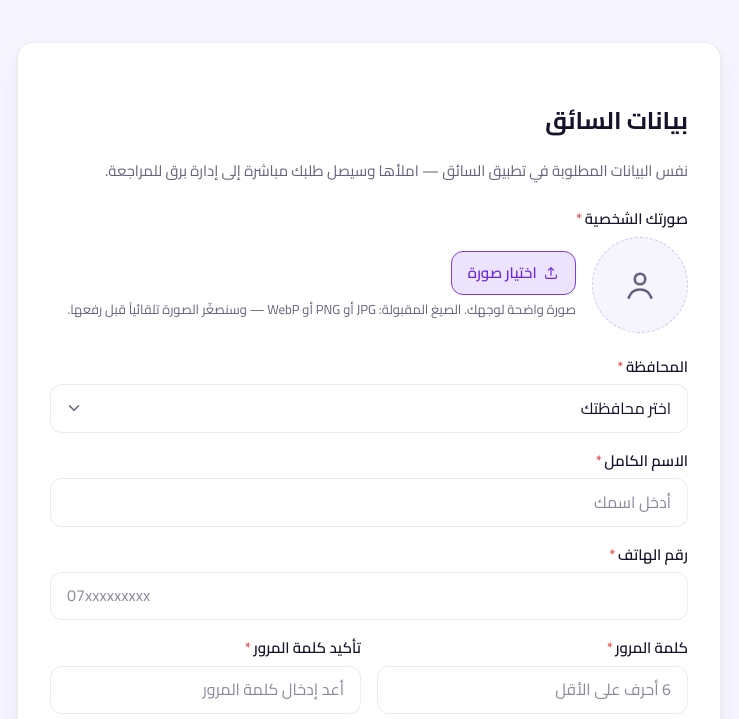
Test case: the driver apply page › refuses to submit without agreeing to the terms
(page scrolled)
Select "النجف" in the dropdown labelled "المحافظة*" at point(369, 408), box [50, 384, 688, 433]
Type "علي محمد" into the field labelled "الاسم الكامل*".
click(369, 502); type("علي محمد")  # box [50, 478, 688, 526]
Type "07712345678" into the field labelled "رقم الهاتف*".
click(369, 596); type("07712345678")  # box [50, 572, 688, 620]
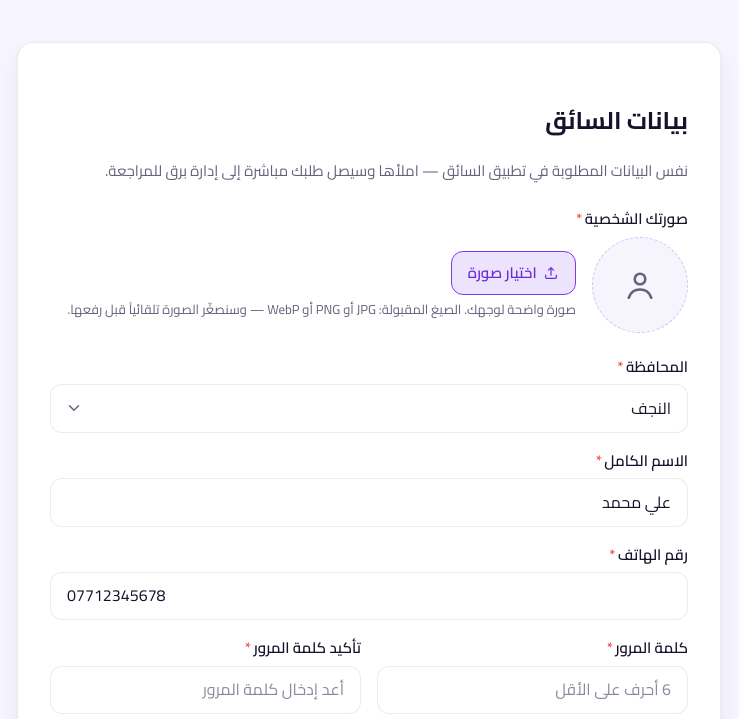
Type "secret123" into the password field labelled "كلمة المرور*".
click(532, 690); type("secret123")  # box [377, 666, 688, 714]
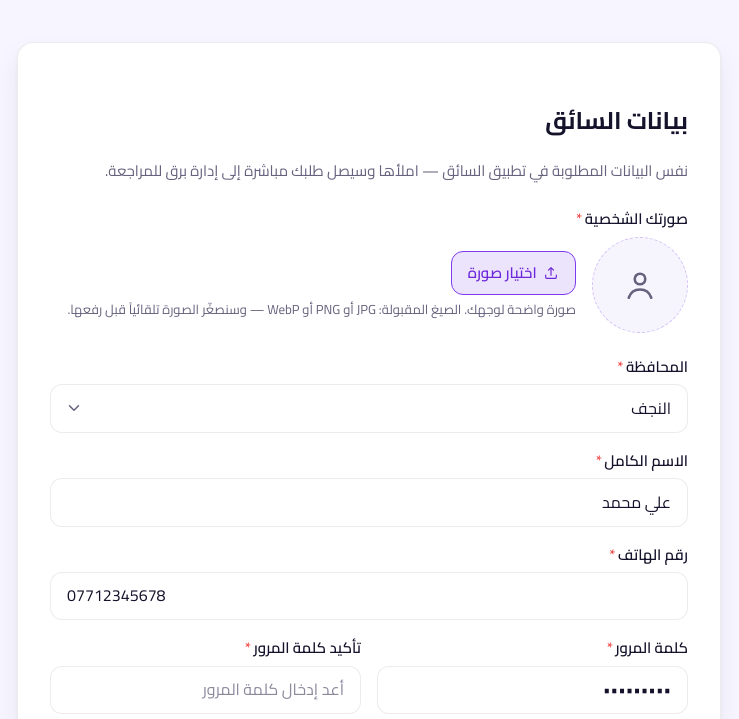
Type "secret123" into the password field labelled "تأكيد كلمة المرور*".
click(206, 690); type("secret123")  # box [50, 666, 361, 714]
(page scrolled)
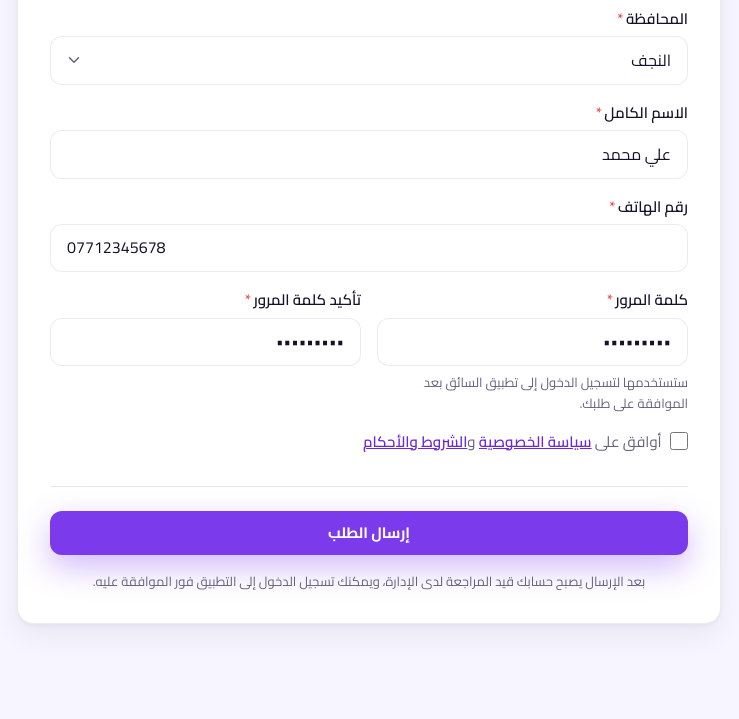
Click the checkbox.
click(679, 441)  # box [670, 432, 688, 450]
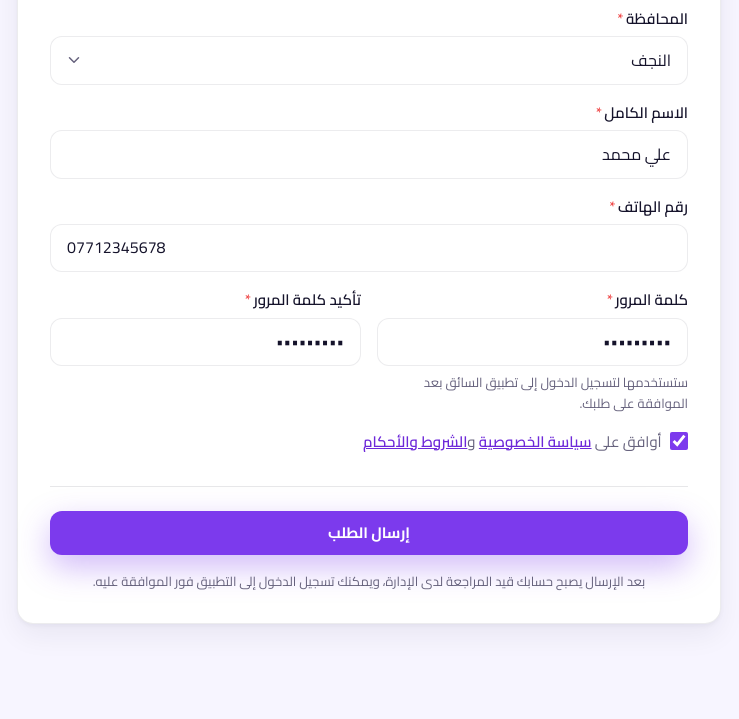
Click the checkbox.
click(679, 441)  # box [670, 432, 688, 450]
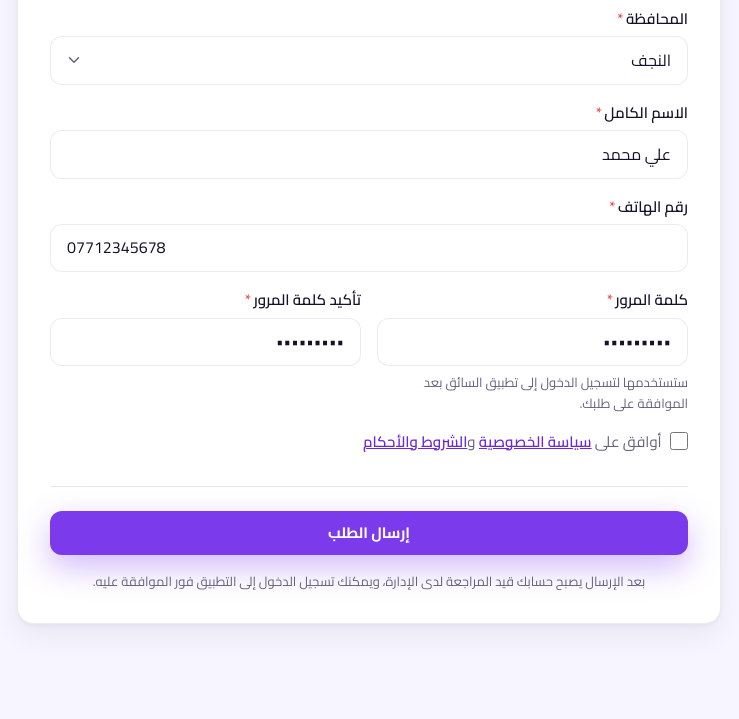
Click the button "إرسال الطلب".
click(369, 533)  # box [50, 511, 688, 555]
(page scrolled)
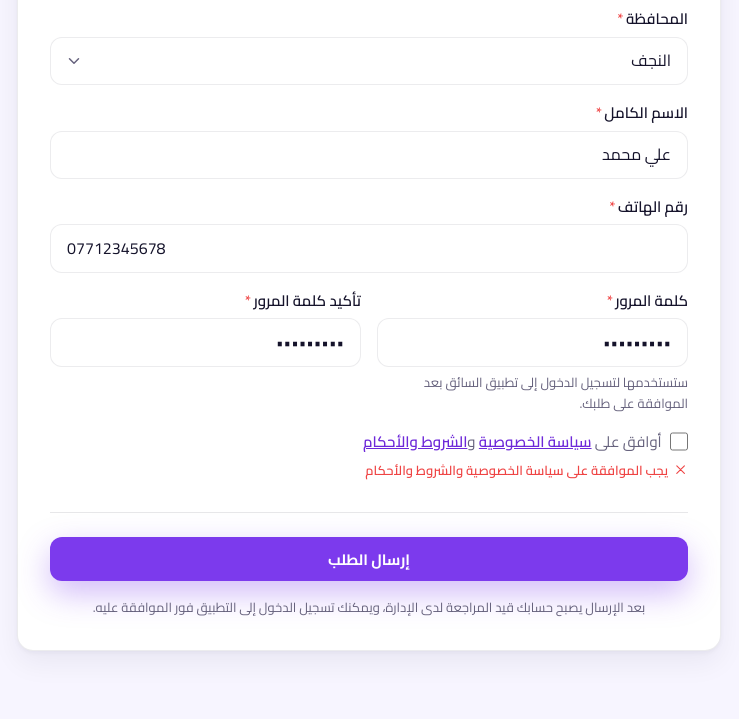
Result: the text "يجب الموافقة على سياسة الخصوصية والشروط والأحكام" is shown at [365, 458, 688, 482]
